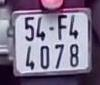0: (38, 44, 51, 71)
4: (23, 41, 37, 71), (68, 13, 81, 39), (35, 16, 47, 43)
5: (23, 16, 37, 42)
7: (53, 43, 65, 71)
8: (67, 41, 82, 69)
F: (56, 12, 69, 41)
